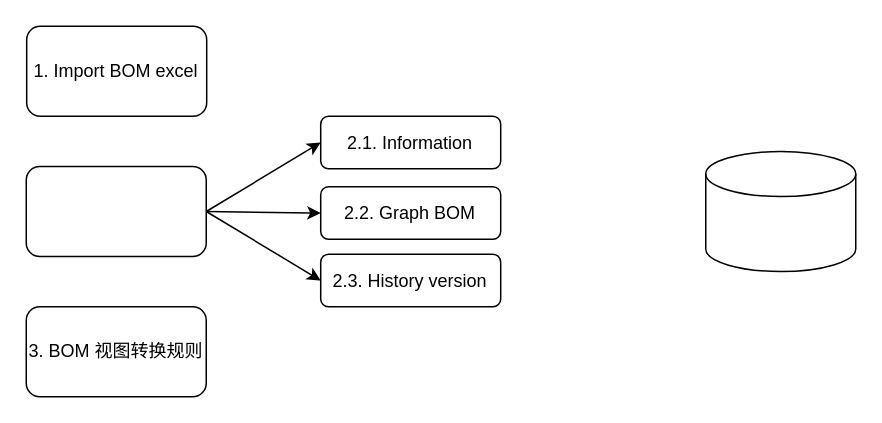
Image size: 882x423. Some labels were removed from this diagram. Here are the shapes that lost their labels. From the top down, the box of each, then its label:
(25, 165, 206, 256): 2. Search BOM View Engineering/Process /Manufacturing
(704, 150, 856, 272): TC BOM Excel?
